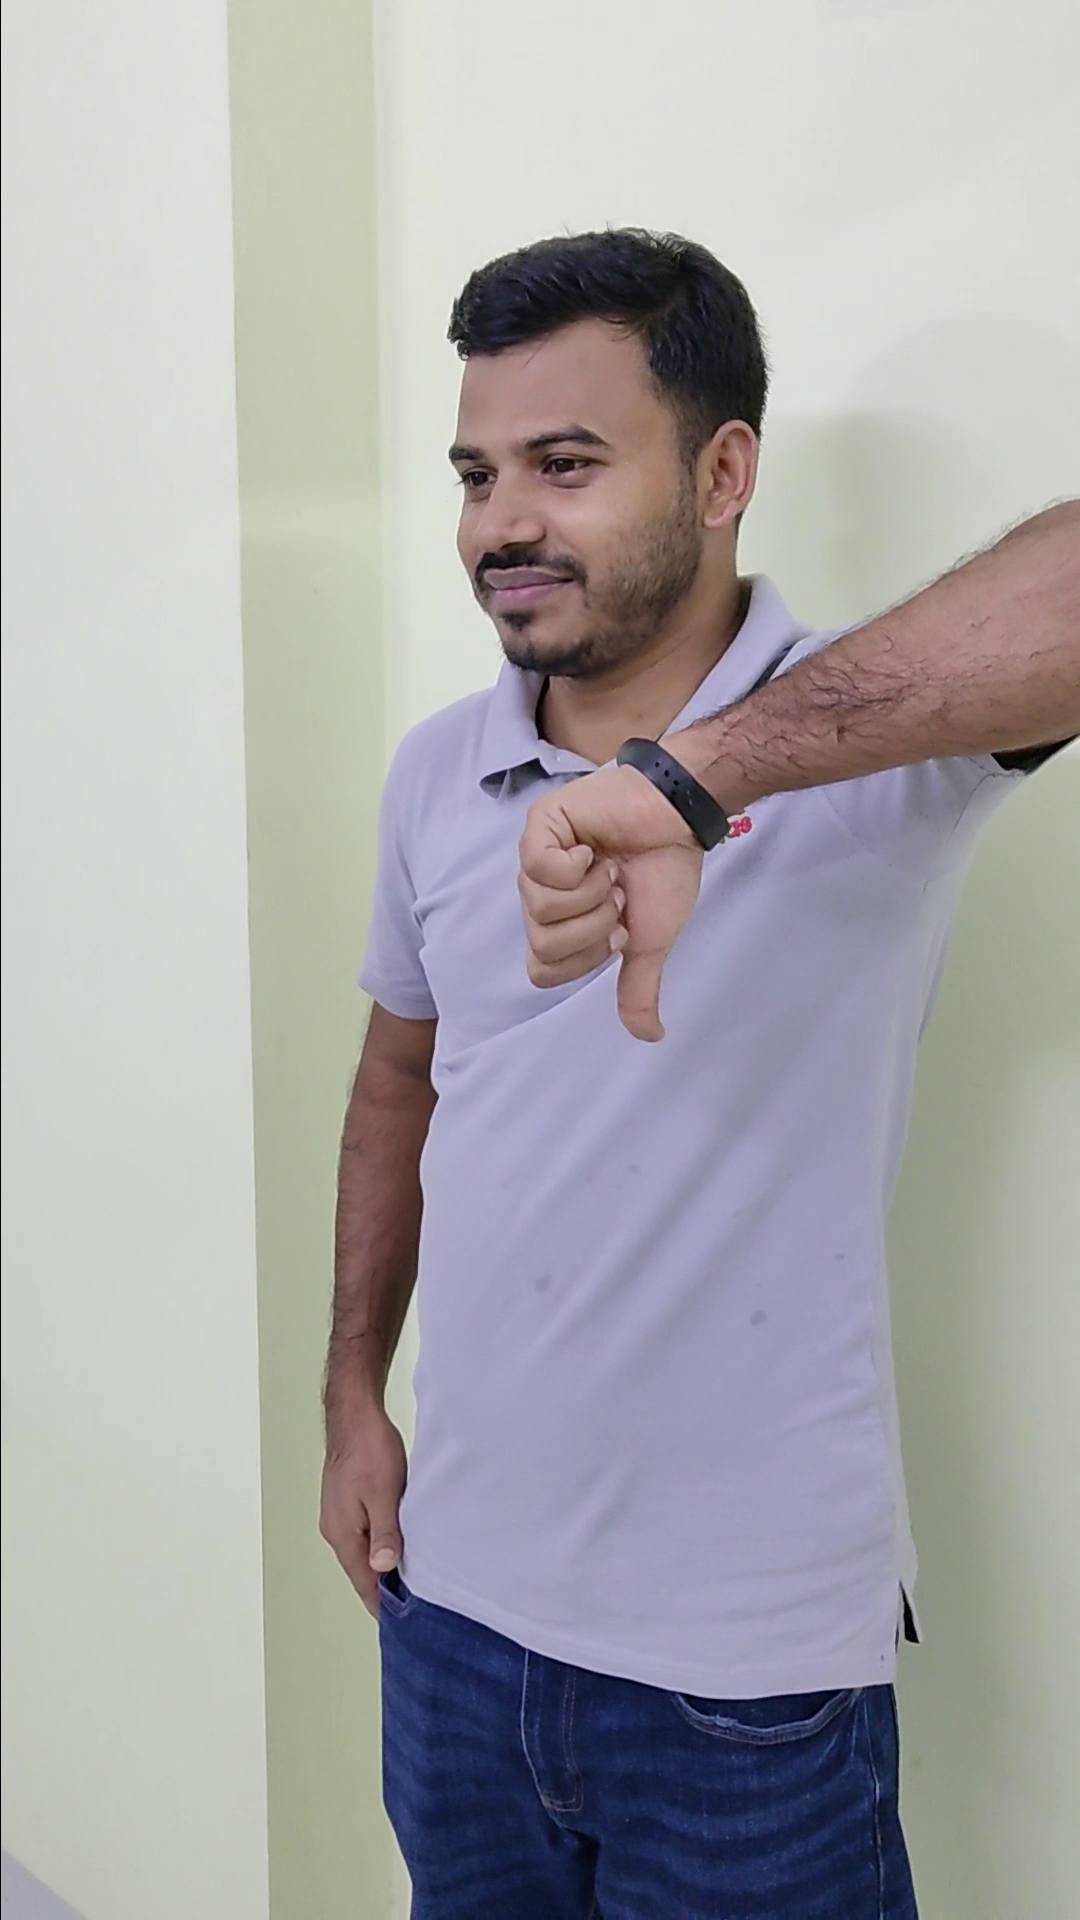Dislike: (487, 729, 716, 1055)
None: (280, 1350, 426, 1644)
